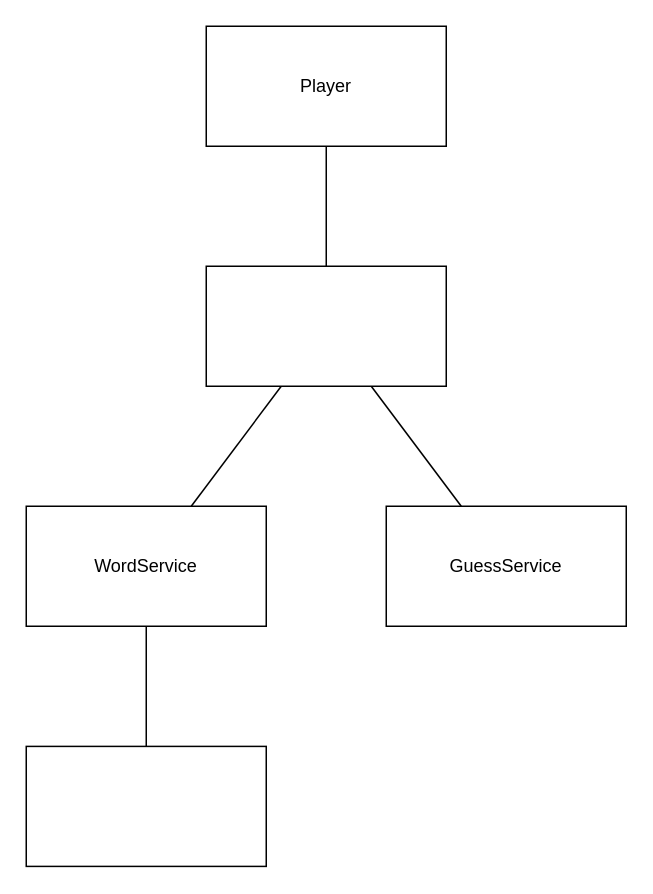
Image size: 653x894. Some labels were removed from this diagram. Each missing label, with the centre of its shape:
"Dictionary" goes at [145,805].
"WebApp" goes at [325,325].
